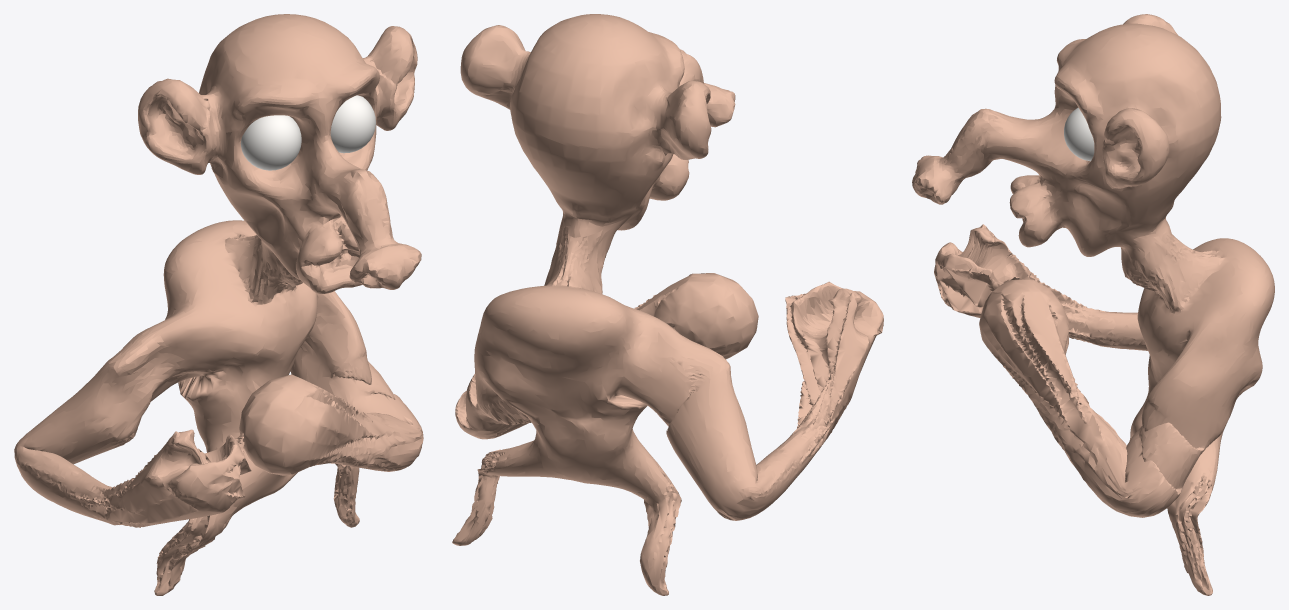
The model's file is tom.glb.
The picture shows the model from 3 angles, left to right: view 1: azimuth 30°, elevation 25°; view 2: azimuth 150°, elevation 25°; view 3: azimuth 270°, elevation 25°; orthographic projection. The views are drawn at different scales.
Visible parts, largest first — view 1: Sphere.004; view 2: Sphere.004; view 3: Sphere.004.
Boxes of the visible parts, x1,y1,x2,y2 form: Sphere.004: (14,14,423,595); Sphere.004: (452,14,883,595); Sphere.004: (912,14,1274,595).
Size of the model in its own units: 1.33 by 2 by 1.25.
